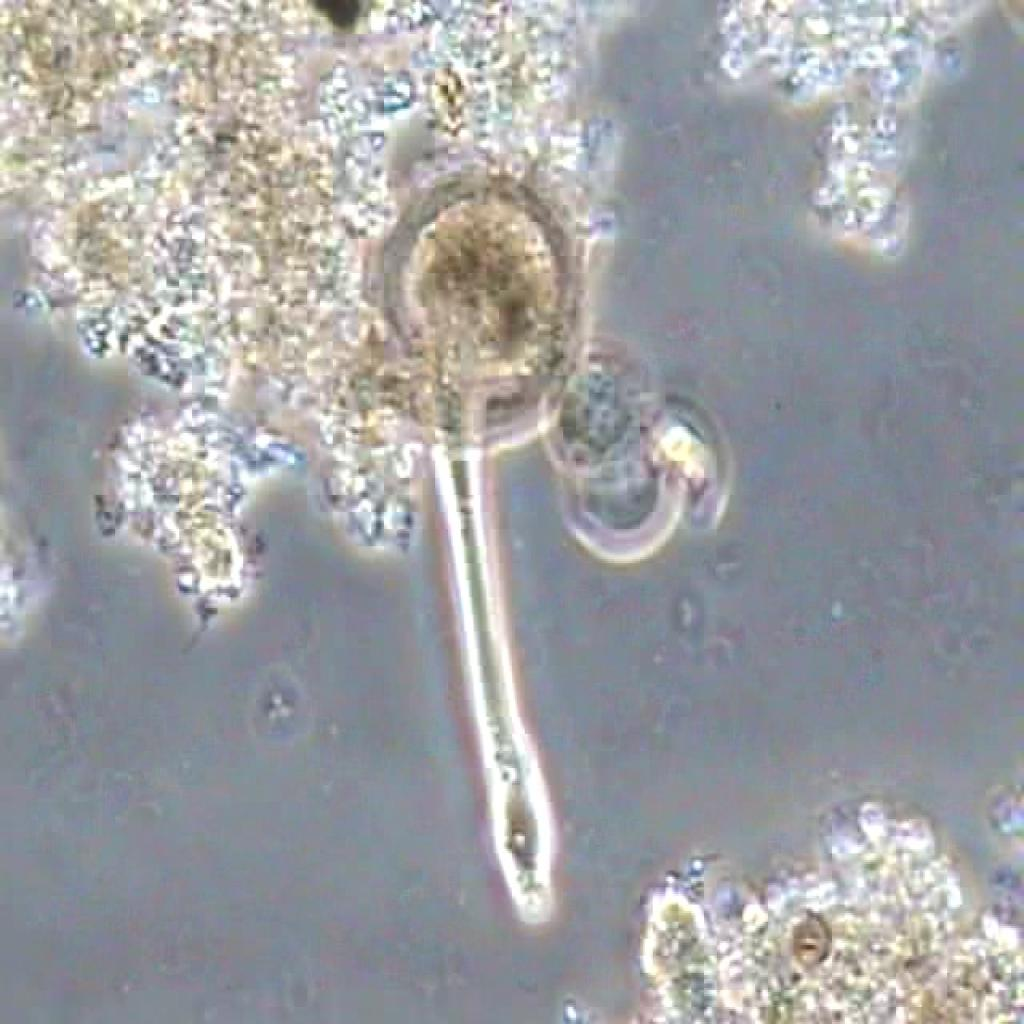Arcella: (343, 144, 607, 940)
